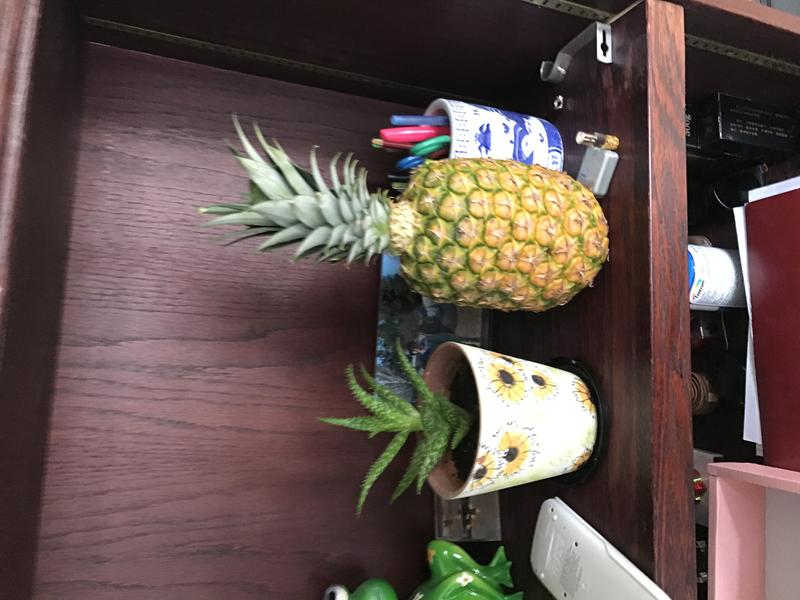pineapple: (188, 115, 619, 319)
